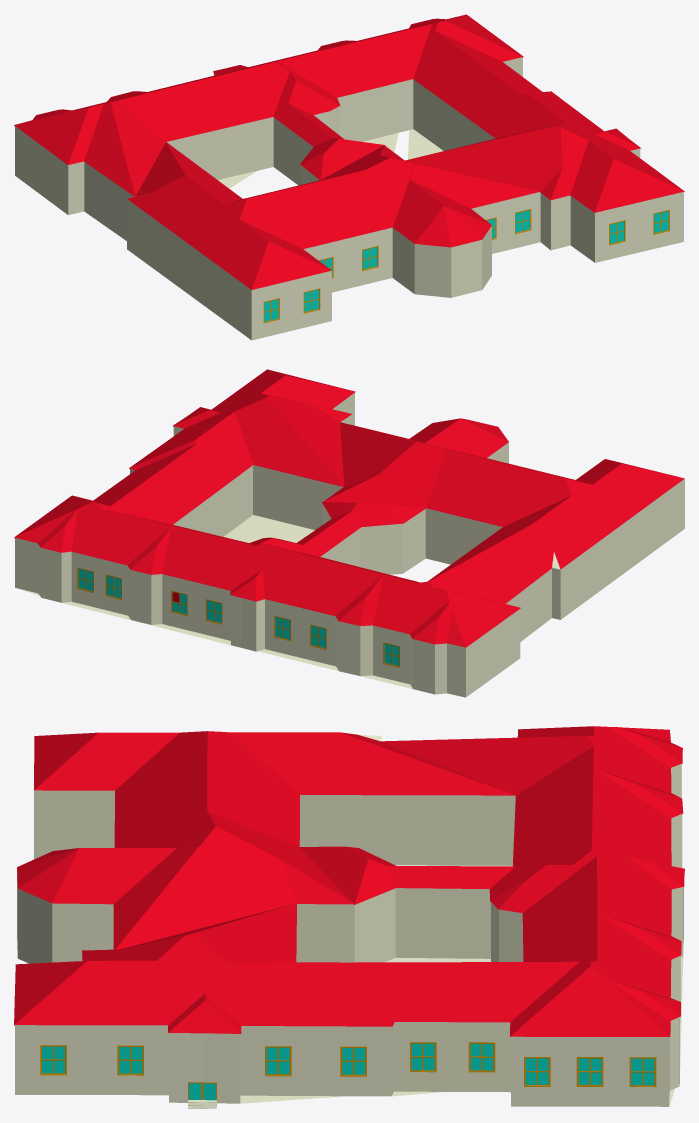
File: Anderson Stuart Building.fbx
3 views of the same model, one above another, from view 1: azimuth 30°, elevation 25°; view 2: azimuth 150°, elevation 25°; view 3: azimuth 270°, elevation 25° (orthographic). The views are drawn at different scales.
Parts seen in each view (by area): view 1: Anderson-Stuart Building.001; view 2: Anderson-Stuart Building.001; view 3: Anderson-Stuart Building.001.
Part boxes in pixels (<box>): Anderson-Stuart Building.001: <box>14,14,684,340</box>; Anderson-Stuart Building.001: <box>14,369,684,697</box>; Anderson-Stuart Building.001: <box>14,726,684,1108</box>.
Bounding box in the file's own units: 6871 × 1228 × 6301.
